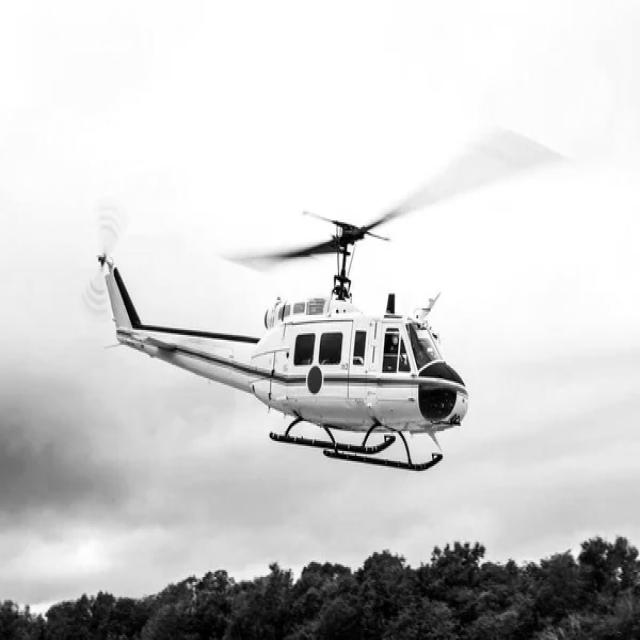Helicopter: (98, 129, 562, 472)
